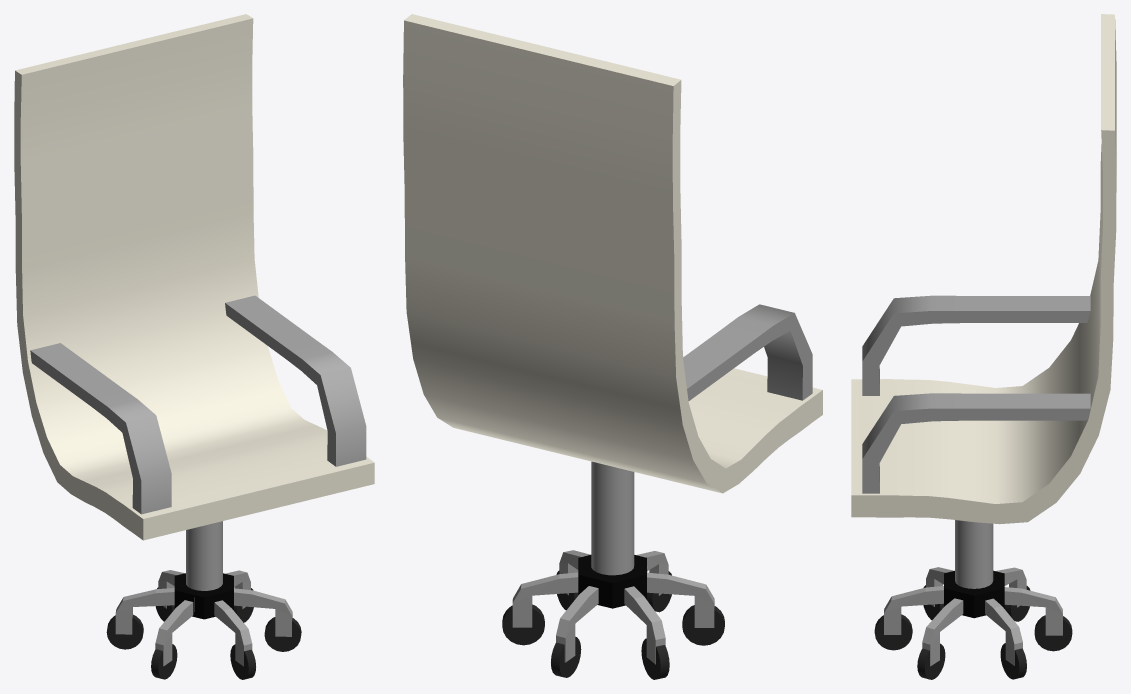
Rendered from Chair.fbx.
3 views of the same model, side by side, from view 1: azimuth 30°, elevation 25°; view 2: azimuth 150°, elevation 25°; view 3: azimuth 270°, elevation 25° (orthographic). The views are drawn at different scales.
Visible parts, largest first — view 1: Chair; view 2: Chair; view 3: Chair.
Boxes of the visible parts, bbox=[...] form: Chair: bbox=[14, 14, 374, 679]; Chair: bbox=[403, 14, 822, 679]; Chair: bbox=[851, 14, 1116, 679].
Bounding box in the file's own units: 20.33 × 46.86 × 19.62.
1 material, 1 textured.
